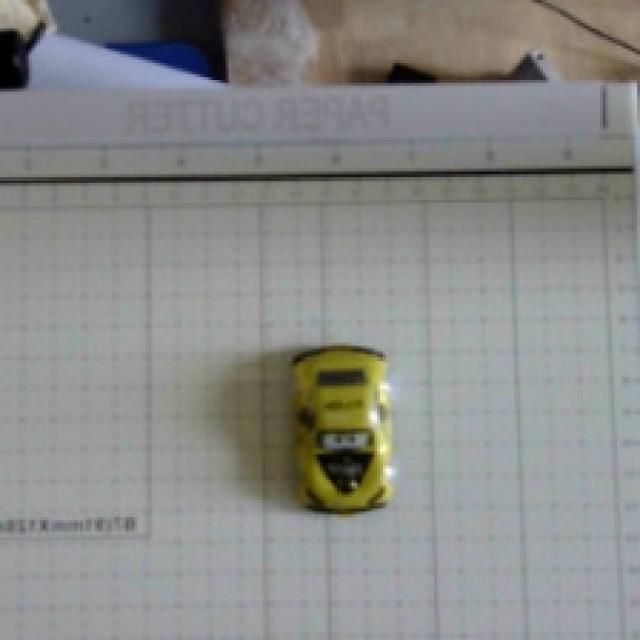Yellow Car: (241, 285, 426, 548)
